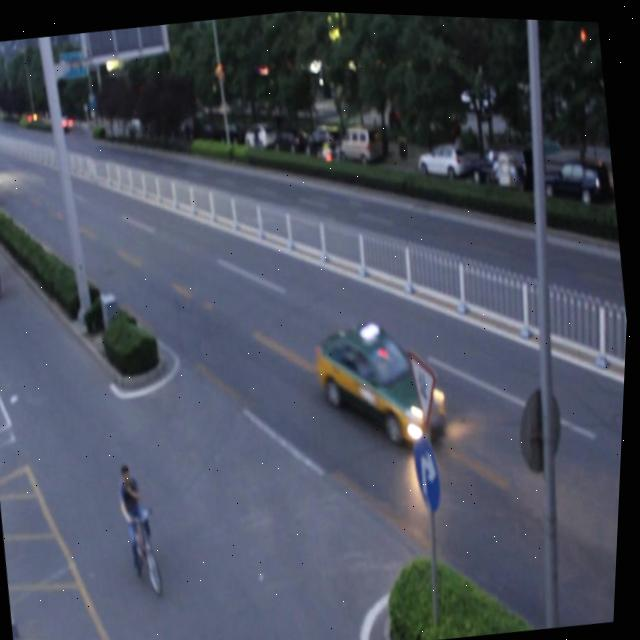car: (312, 307, 457, 454)
